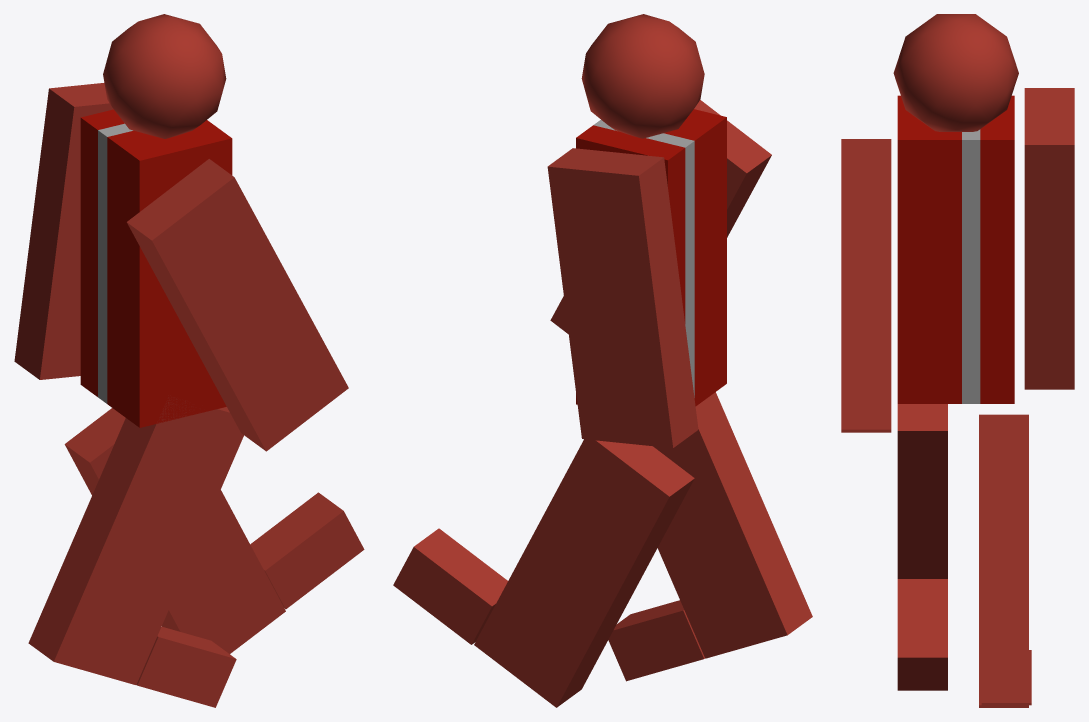
File: player_000060.obj
3 renders of one model, left to right at view 1: azimuth 30°, elevation 25°; view 2: azimuth 150°, elevation 25°; view 3: azimuth 270°, elevation 25°, orthographic.
Visible parts, largest first — view 1: Cube.010, Cube.013, Cube.007, Cube.012, Cube.008, Icosphere.001, Cube.009, Cube.011; view 2: Cube.012, Cube.008, Cube.010, Cube.007, Icosphere.001, Cube.009, Cube.011, Cube.013; view 3: Cube.007, Cube.012, Cube.013, Cube.008, Icosphere.001, Cube.010, Cube.011, Cube.009.
Part boxes in pixels (x1,y1,x2,y2): Cube.010: (28,395,243,684); Cube.013: (127,159,348,451); Cube.007: (80,109,232,427); Cube.012: (14,83,113,379); Cube.008: (64,408,285,653); Icosphere.001: (103,14,226,138); Cube.009: (250,492,364,609); Cube.011: (136,626,236,707); Cube.012: (547,148,698,448); Cube.008: (474,439,694,707); Cube.010: (653,392,812,658); Cube.007: (576,109,726,406); Icosphere.001: (581,14,704,138); Cube.009: (393,528,507,644); Cube.011: (608,600,704,681); Cube.013: (550,100,771,333); Cube.007: (897,95,1014,403); Cube.012: (1024,88,1074,389); Cube.013: (841,139,891,432); Cube.008: (979,414,1028,707); Icosphere.001: (893,14,1018,131); Cube.010: (897,404,947,578); Cube.011: (897,579,947,690); Cube.009: (981,650,1031,705).
Bounding box in the file's own units: 1.57 × 2.88 × 0.9137.
